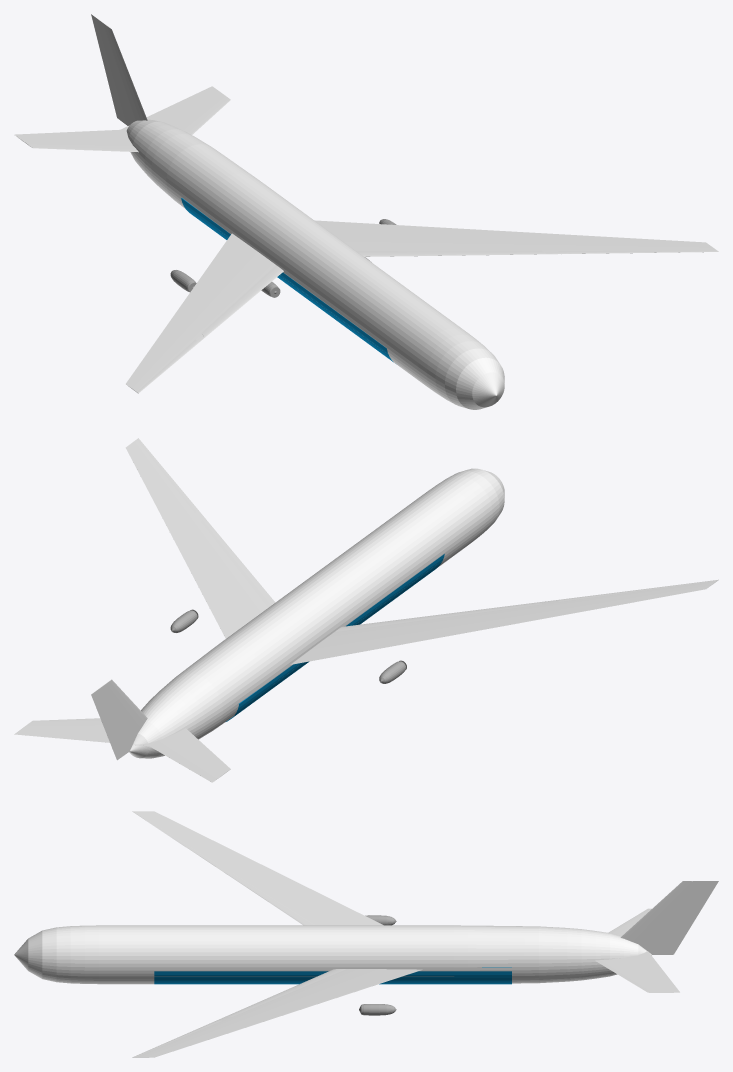
3 views of the same model, one above another, from view 1: azimuth 30°, elevation 25°; view 2: azimuth 150°, elevation 25°; view 3: azimuth 270°, elevation 25° (orthographic). The views are drawn at different scales.
Visible parts, largest first — view 1: Fuselage, Wing_R, Wing_L, HStab, VStab, Stripes, Flap_R, Flap_L; view 2: Fuselage, Wing_R, Wing_L, HStab, VStab, Stripes, Flap_R, Flap_L; view 3: Fuselage, Wing_L, Wing_R, Stripes, VStab, HStab, Flap_L, Flap_R.
Boxes of the visible parts, bbox=[...] form: Fuselage: bbox=[126, 119, 504, 409]; Wing_R: bbox=[314, 220, 716, 254]; Wing_L: bbox=[126, 233, 275, 392]; HStab: bbox=[14, 86, 230, 152]; VStab: bbox=[91, 14, 147, 125]; Stripes: bbox=[181, 198, 393, 362]; Flap_R: bbox=[356, 250, 545, 256]; Flap_L: bbox=[201, 265, 283, 337]; Fuselage: bbox=[129, 468, 504, 758]; Wing_R: bbox=[125, 439, 267, 638]; Wing_L: bbox=[290, 581, 716, 664]; HStab: bbox=[14, 718, 230, 782]; VStab: bbox=[91, 679, 147, 760]; Stripes: bbox=[226, 554, 444, 721]; Flap_R: bbox=[200, 518, 275, 607]; Flap_L: bbox=[335, 601, 545, 631]; Fuselage: bbox=[14, 925, 651, 984]; Wing_L: bbox=[135, 811, 383, 925]; Wing_R: bbox=[133, 969, 422, 1057]; Stripes: bbox=[154, 967, 511, 984]; VStab: bbox=[620, 881, 718, 954]; HStab: bbox=[595, 908, 679, 992]; Flap_L: bbox=[224, 872, 315, 925]; Flap_R: bbox=[225, 969, 345, 1016].
Bounding box in the file's own units: 64.4 × 12.26 × 77.95.
